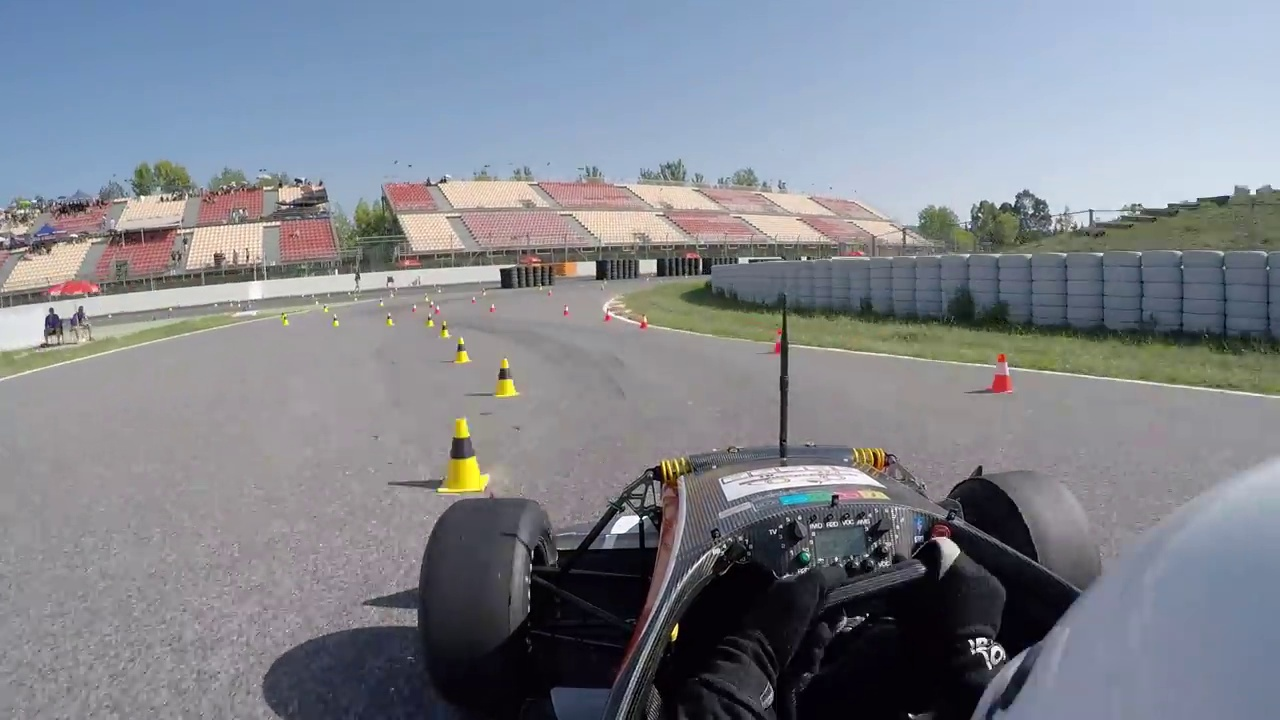Cone: (435, 413, 493, 498), (989, 353, 1018, 393), (494, 354, 518, 398), (452, 335, 473, 366)
